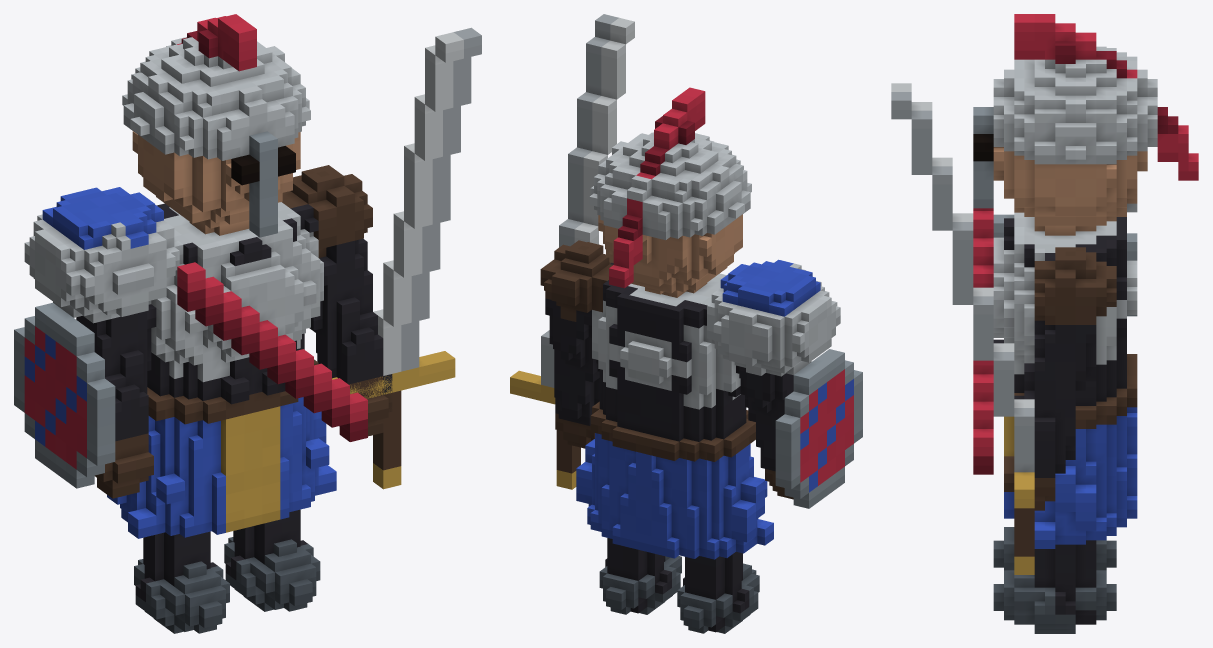
File: u_garde__lame.glb
3 views of the same model, side by side, from view 1: azimuth 30°, elevation 25°; view 2: azimuth 150°, elevation 25°; view 3: azimuth 270°, elevation 25° (orthographic). The views are drawn at different scales.
Parts seen in each view (by area): view 1: garde_body, garde_weapon; view 2: garde_body, garde_weapon; view 3: garde_body, garde_weapon.
Boxes of the visible parts, x1,y1,x2,y2 form: garde_body: [14, 14, 392, 633]; garde_weapon: [332, 27, 481, 489]; garde_body: [540, 87, 862, 633]; garde_weapon: [510, 14, 634, 489]; garde_body: [973, 14, 1198, 633]; garde_weapon: [891, 83, 1034, 574].
Bounding box in the file's own units: 1.05 × 1.58 × 0.75.
